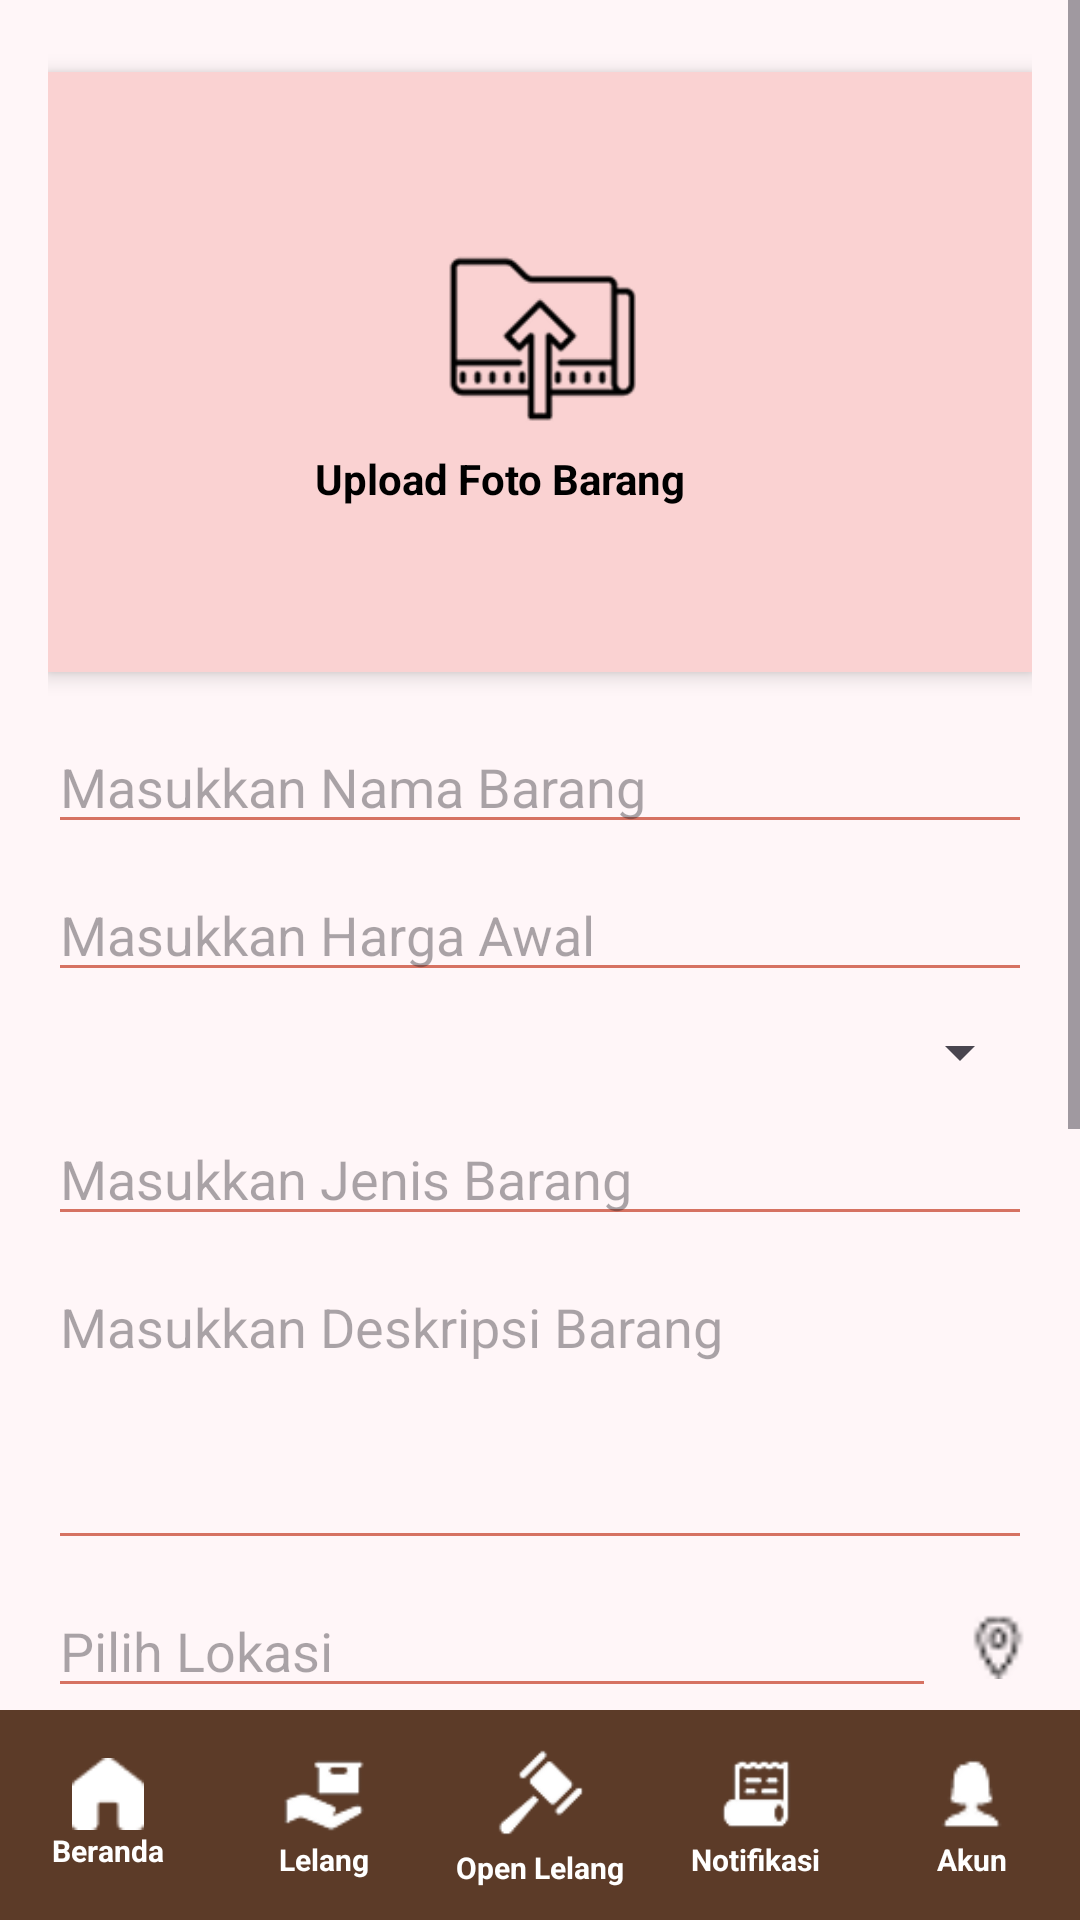

Locate icon controls on the screen. Image size 1080px×1920px, boxes as (x1,y1,x2,y2).
location: (974,1616,1023,1679)
